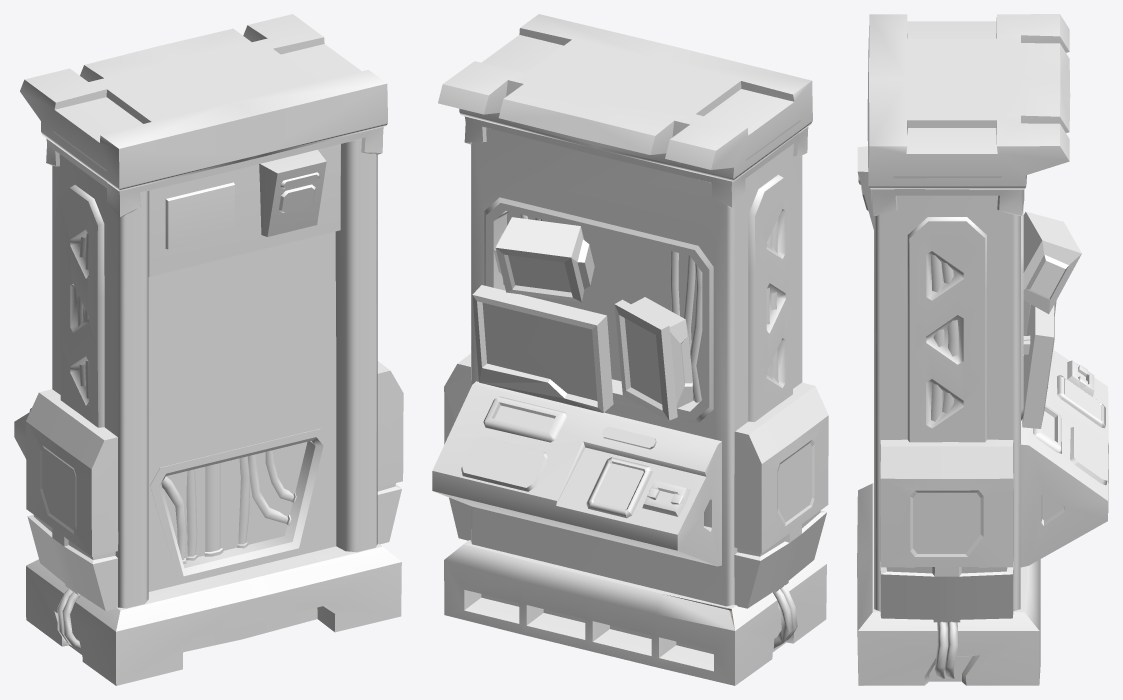
File: CentralStationCPU.glb
3 views of the same model, side by side, from view 1: azimuth 30°, elevation 25°; view 2: azimuth 150°, elevation 25°; view 3: azimuth 270°, elevation 25° (orthographic).
Parts seen in each view (by area): view 1: CenterStationCPUArenaHologram; view 2: CenterStationCPUArenaHologram; view 3: CenterStationCPUArenaHologram.
Part boxes in pixels (box(x1,y1,x2,y2)): CenterStationCPUArenaHologram: box(14, 14, 403, 685); CenterStationCPUArenaHologram: box(432, 14, 828, 685); CenterStationCPUArenaHologram: box(857, 14, 1108, 685).
Size of the model in its own units: 1.55 by 2.52 by 1.07.
Materials: 2 (1 with a texture image).
